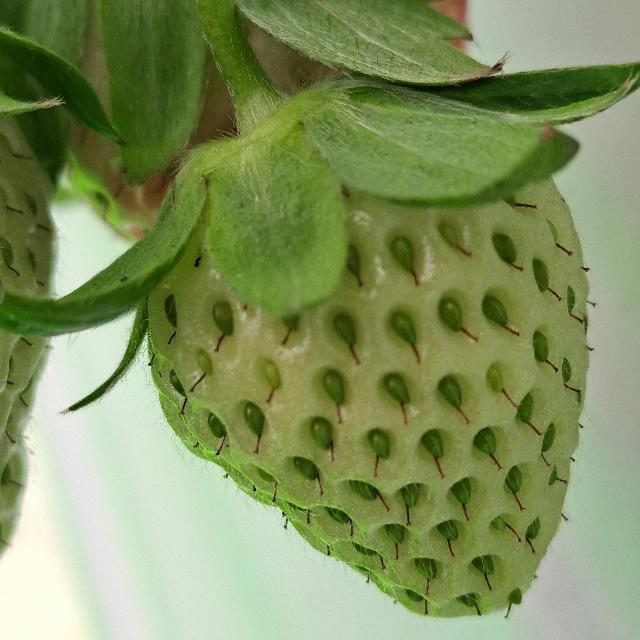Health_25: (147, 177, 589, 618)
